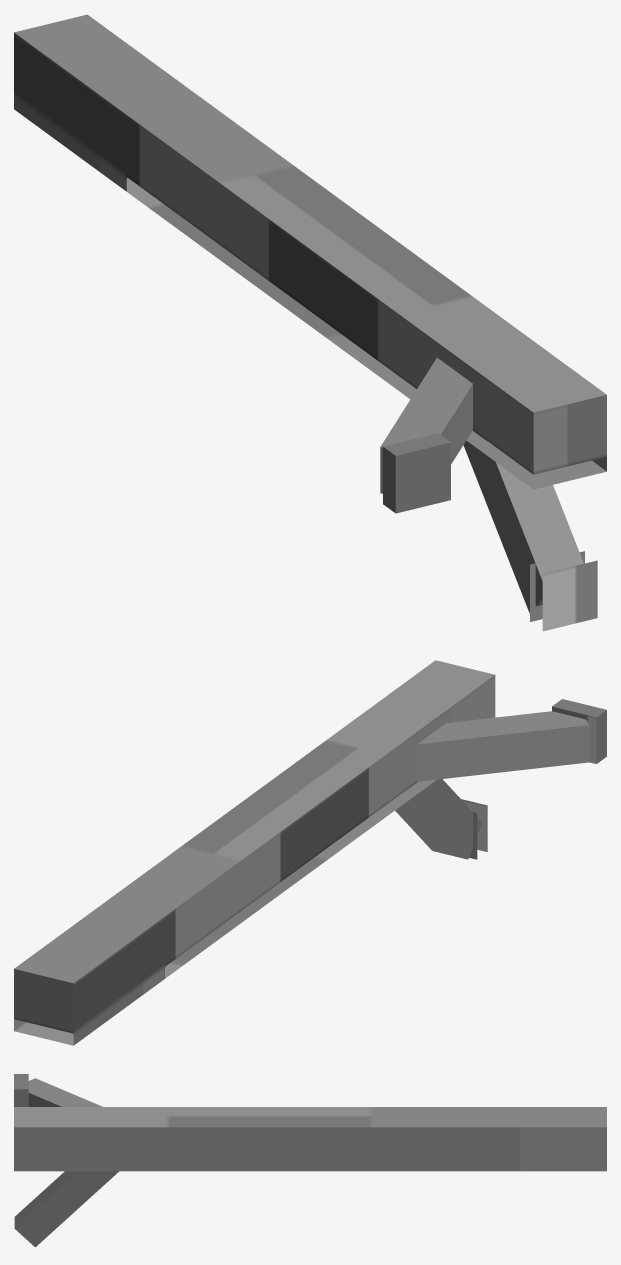
3 renders of one model, top to bottom at view 1: azimuth 30°, elevation 25°; view 2: azimuth 150°, elevation 25°; view 3: azimuth 270°, elevation 25°, orthographic. The views are drawn at different scales.
Bounding box in the file's own units: 0.575 × 0.575 × 2.45.
